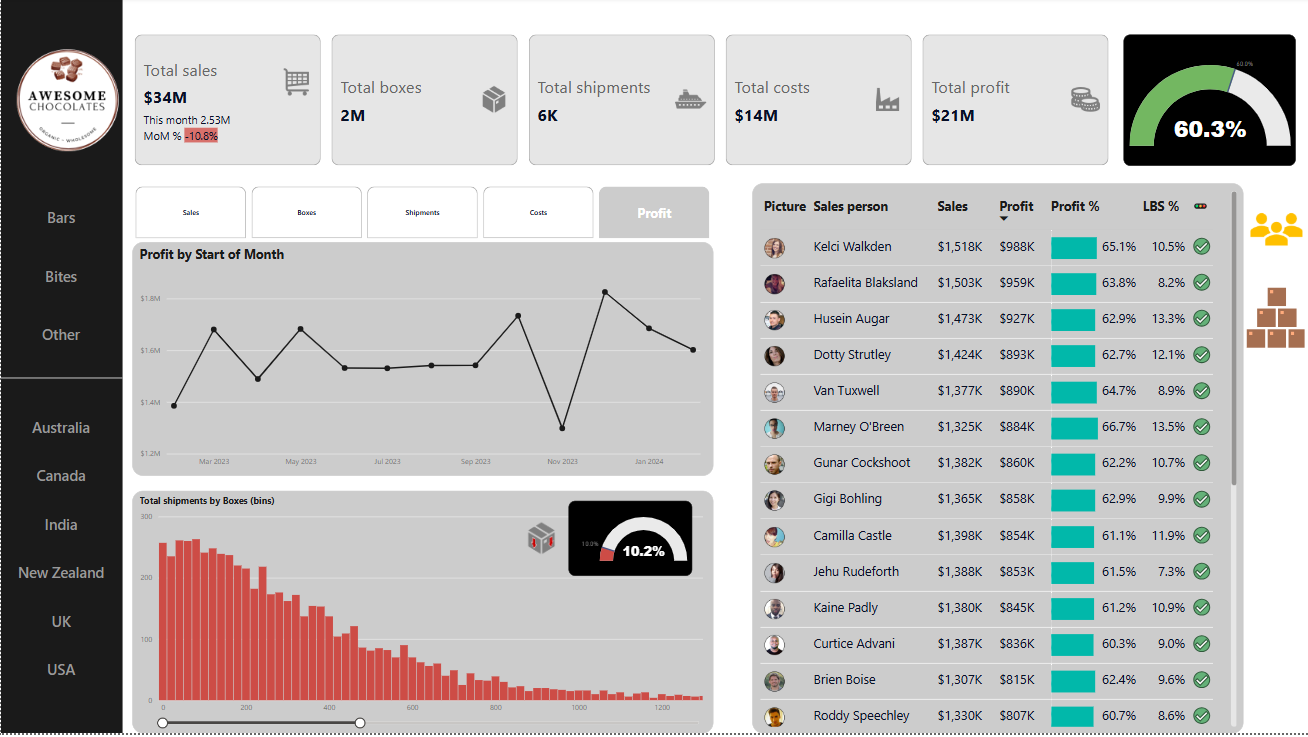

This screenshot's page, from the dashboard's own definition file:
{"tool":"powerbi","page":{"name":"KPI Cards, analysis chart, shipment analysis, bookmark-product and sales table, slicer and tooltip","canvas":[1920,1080],"ordinal":3},"visuals":[{"type":"shape","box":[0,0,178.7,1079.9],"z":0},{"type":"cardVisual","fields":{"Data":["_Measures.Total sales","_Measures.Total boxes","_Measures.Total shipments","_Measures.Total costs","_Measures.Total profit"]},"box":[196.3,55,1430.7,192.6],"z":1000},{"type":"gauge","fields":{"Y":["_Measures.Profit %"]},"box":[1647.2,55,253.1,192.6],"z":2000},{"type":"image","box":[18.3,55,159.6,192.6],"z":3000},{"type":"lineChart","fields":{"Y":["_Measures.Total profit"],"Category":["calendar.Start of Month"]},"box":[192.6,359.5,852.9,343],"z":4000},{"type":"advancedSlicerVisual","fields":{"Values":["Measure Selector.Measure Selector"]},"box":[192.6,273.3,852.9,86.2],"z":5000},{"type":"columnChart","fields":{"Category":["shipments.Boxes (bins)"],"Y":["_Measures.Total shipments"]},"box":[192.6,724.5,852.9,355.8],"z":6000},{"type":"gauge","fields":{"Y":["_Measures.LBS %"]},"box":[832.7,739.2,181.6,110.1],"z":7000},{"type":"image","box":[753.9,761.2,78.9,66],"z":8000},{"type":"tableEx","title":"People Details","fields":{"Values":["people.Picture","people.Sales person","_Measures.Total sales","_Measures.Total profit","_Measures.Profit %","_Measures.LBS %","_Measures.Profit Target Indicator"]},"box":[1102.4,273.3,720.9,807.1],"z":9000},{"type":"image","title":"Product Icon","box":[1823.2,409,97.2,122.9],"z":11000},{"type":"image","title":"People Icon","box":[1823.2,273.3,97.2,135.7],"z":12000},{"type":"advancedSlicerVisual","fields":{"Values":["products.Category"]},"box":[5.6,279.3,165.7,260.7],"z":13000},{"type":"advancedSlicerVisual","fields":{"Values":["locations.Geo"]},"box":[5.6,594,165.7,433.8],"z":13001},{"type":"shape","box":[0,409.6,178.7,299.8],"z":13002}]}

Visuals, with their boxes on the page's 1920x1080 design canvas (x1, y1, x2, y2). These are canvas units, not pixel positions in the 1308x737 screenshot, which may show the page scaled, cropped or inside an application window:
shape: select_region(0, 0, 179, 1080)
cardVisual - _Measures.Total sales x _Measures.Total boxes: select_region(196, 55, 1627, 248)
gauge - _Measures.Profit %: select_region(1647, 55, 1900, 248)
image: select_region(18, 55, 178, 248)
lineChart - _Measures.Total profit x calendar.Start of Month: select_region(193, 360, 1046, 702)
advancedSlicerVisual - Measure Selector.Measure Selector: select_region(193, 273, 1046, 360)
columnChart - shipments.Boxes (bins) x _Measures.Total shipments: select_region(193, 724, 1046, 1080)
gauge - _Measures.LBS %: select_region(833, 739, 1014, 849)
image: select_region(754, 761, 833, 827)
"People Details" tableEx: select_region(1102, 273, 1823, 1080)
"Product Icon" image: select_region(1823, 409, 1920, 532)
"People Icon" image: select_region(1823, 273, 1920, 409)
advancedSlicerVisual - products.Category: select_region(6, 279, 171, 540)
advancedSlicerVisual - locations.Geo: select_region(6, 594, 171, 1028)
shape: select_region(0, 410, 179, 709)
